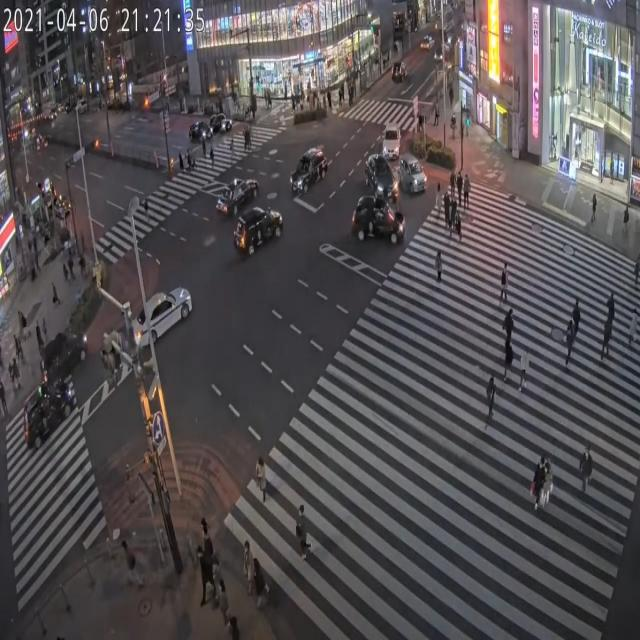humans: (291, 490, 320, 577), (188, 542, 215, 614), (198, 512, 217, 600), (252, 546, 276, 614), (235, 522, 254, 596), (217, 563, 233, 630), (254, 450, 273, 506), (566, 293, 588, 341), (482, 372, 499, 434), (497, 328, 516, 383), (558, 317, 579, 365), (543, 458, 560, 514), (578, 441, 594, 497), (626, 299, 640, 362), (604, 286, 619, 343), (533, 454, 546, 516), (520, 341, 534, 395), (505, 306, 519, 358), (603, 310, 615, 364), (221, 610, 240, 640), (498, 259, 508, 307), (631, 252, 640, 299), (433, 179, 443, 221), (434, 244, 444, 284), (443, 191, 453, 231), (590, 190, 600, 228), (463, 174, 472, 211), (450, 198, 458, 238), (454, 207, 462, 245), (456, 169, 463, 204), (450, 170, 456, 199)
